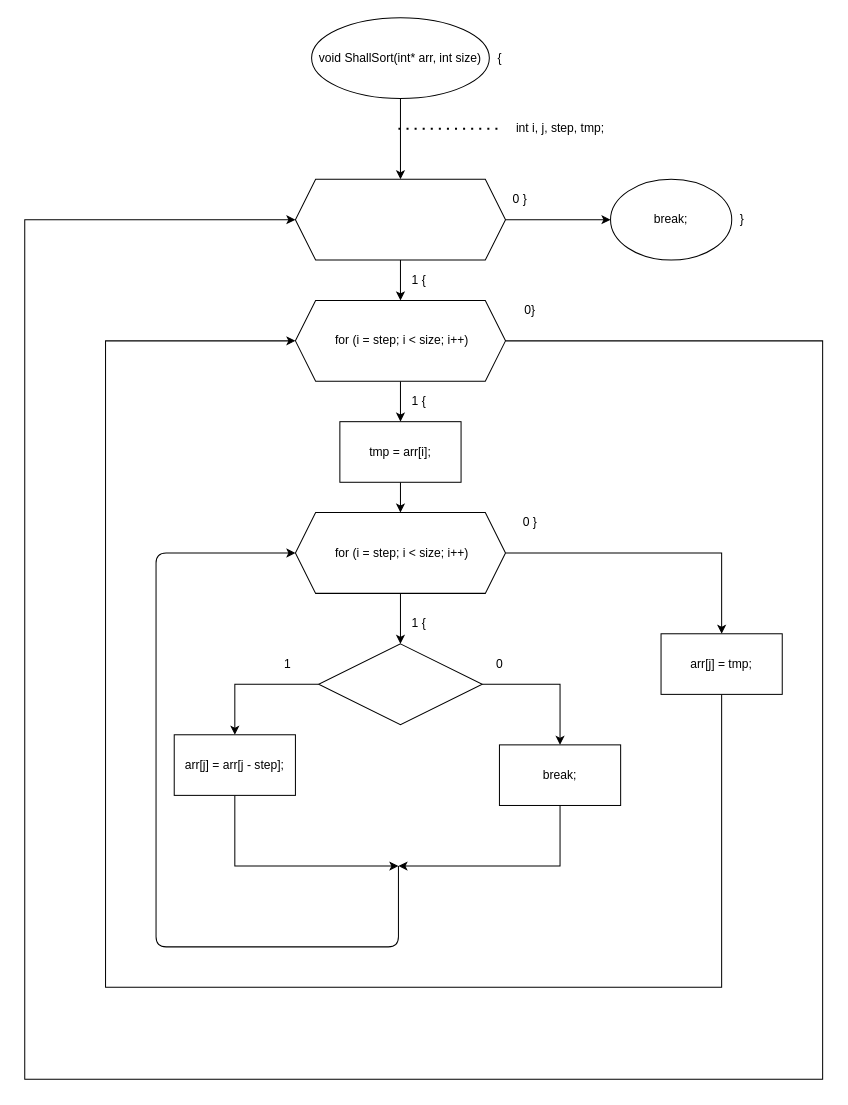
Image size: 848x1105. Some labels were removed from this diagram. Each missing label, with the centre of its shape:
for (step = size / 2; step > 0; step /= 2): pixel 400 219
if (tmp < arr[j - step]): pixel 400 684
